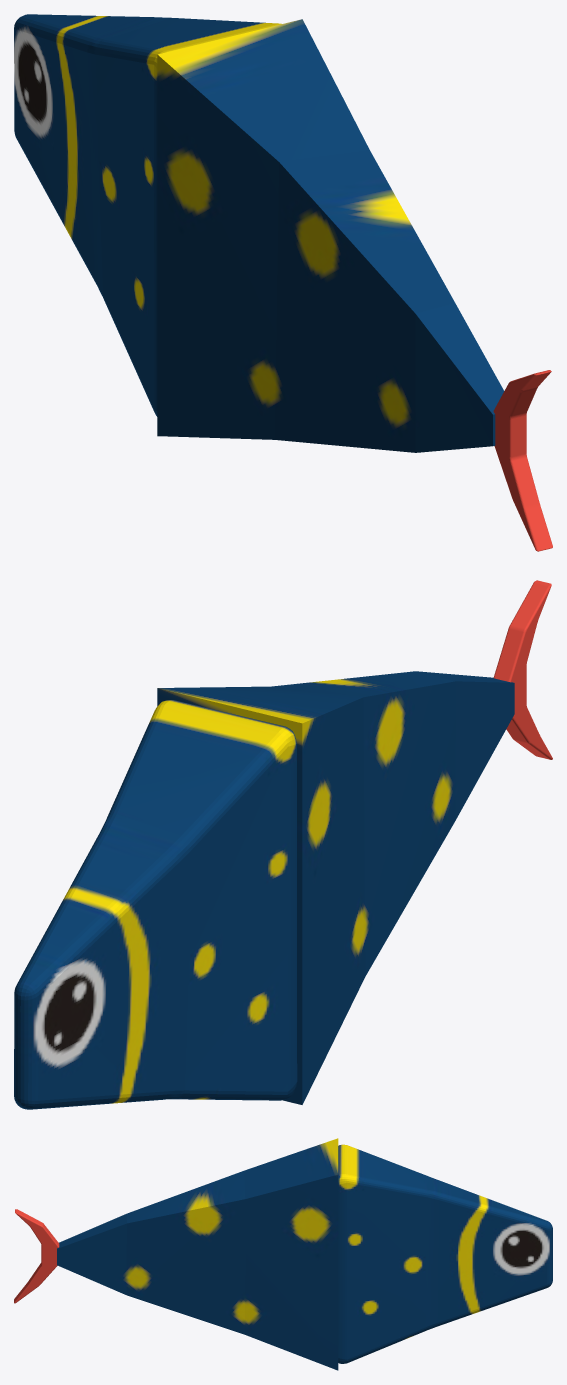
The model's file is Fish9Full.dae.
3 views of the same model, one above another, from view 1: azimuth 30°, elevation 25°; view 2: azimuth 150°, elevation 25°; view 3: azimuth 270°, elevation 25° (orthographic). The views are drawn at different scales.
Visible parts, largest first — view 1: Cube_Cube_000, Cube_Cube_001, Cube_Cube_002; view 2: Cube_Cube_001, Cube_Cube_000, Cube_Cube_002; view 3: Cube_Cube_000, Cube_Cube_001, Cube_Cube_002.
Boxes of the visible parts, box(x1,y1,x2,y2) form: Cube_Cube_000: box(157, 19, 504, 452); Cube_Cube_001: box(14, 14, 281, 416); Cube_Cube_002: box(493, 370, 552, 551); Cube_Cube_001: box(14, 700, 297, 1109); Cube_Cube_000: box(157, 671, 514, 1104); Cube_Cube_002: box(493, 580, 552, 759); Cube_Cube_000: box(57, 1138, 338, 1370); Cube_Cube_001: box(338, 1144, 552, 1363); Cube_Cube_002: box(14, 1209, 59, 1303).
Bounding box in the file's own units: 0.6215 × 3.89 × 1.56.
4 materials, 4 textured.
